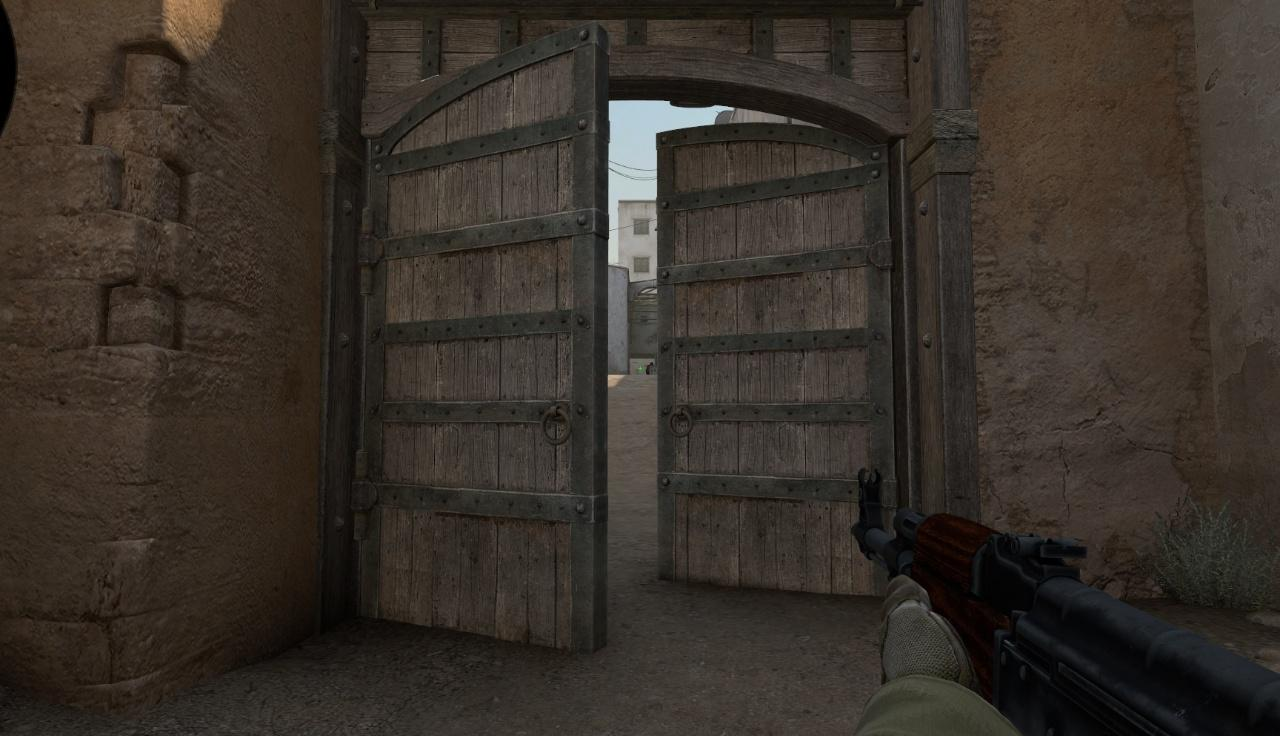rifle: (851, 468, 1280, 736)
tt: (646, 362, 654, 375)
tthead: (650, 362, 653, 366)
